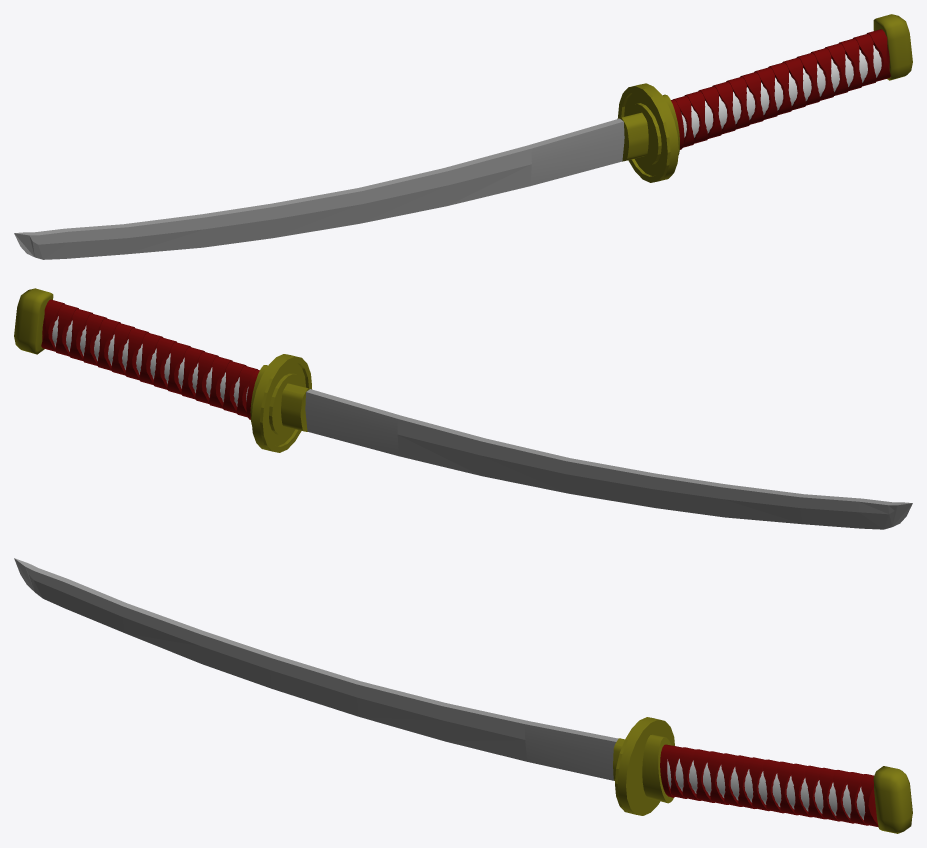
The model's file is katana.fbx.
The picture shows the model from 3 angles, top to bottom: view 1: azimuth 30°, elevation 25°; view 2: azimuth 150°, elevation 25°; view 3: azimuth 330°, elevation 25°; orthographic projection.
Parts seen in each view (by area): view 1: Plane002, Cylinder001, Cylinder019, Box001, Plane003, Cylinder018, Cylinder016, Cylinder015, Cylinder014, Cylinder013, Cylinder017, Cylinder010 (+7 smaller); view 2: Plane002, Cylinder001, Cylinder019, Box001, Plane003, Cylinder018, Cylinder010, Cylinder014, Cylinder011, Cylinder006, Cylinder016, Cylinder013 (+8 smaller); view 3: Plane002, Cylinder001, Cylinder019, Box001, katana, Cylinder018, Cylinder006, Cylinder005, Cylinder013, Cylinder016, Cylinder014, Cylinder011 (+7 smaller).
Part boxes in pixels (<box>): Plane002: <box>14,118,624,259</box>; Cylinder001: <box>618,83,678,182</box>; Cylinder019: <box>681,45,881,137</box>; Box001: <box>873,14,912,80</box>; Plane003: <box>617,112,648,161</box>; Cylinder018: <box>866,29,890,81</box>; Cylinder016: <box>838,38,862,90</box>; Cylinder015: <box>825,43,848,95</box>; Cylinder014: <box>811,48,834,100</box>; Cylinder013: <box>796,53,820,105</box>; Cylinder017: <box>853,34,876,86</box>; Cylinder010: <box>754,67,778,119</box>; Plane002: <box>305,389,912,529</box>; Cylinder001: <box>251,354,311,452</box>; Cylinder019: <box>52,316,248,406</box>; Box001: <box>14,288,53,354</box>; Plane003: <box>281,383,311,431</box>; Cylinder018: <box>41,299,64,351</box>; Cylinder010: <box>153,337,176,389</box>; Cylinder014: <box>97,318,120,370</box>; Cylinder011: <box>139,332,162,384</box>; Cylinder006: <box>208,356,232,408</box>; Cylinder016: <box>69,309,92,360</box>; Cylinder013: <box>111,323,134,375</box>; Plane002: <box>14,558,618,780</box>; Cylinder001: <box>615,717,674,815</box>; Cylinder019: <box>667,758,865,819</box>; Box001: <box>873,766,912,833</box>; katana: <box>642,734,673,803</box>; Cylinder018: <box>860,774,878,827</box>; Cylinder006: <box>693,749,714,802</box>; Cylinder005: <box>679,747,700,800</box>; Cylinder013: <box>791,763,812,817</box>; Cylinder016: <box>833,770,854,823</box>; Cylinder014: <box>805,765,826,819</box>; Cylinder011: <box>763,759,784,813</box>.
Size of the model in its own units: 74.82 by 7.95 by 7.18.
